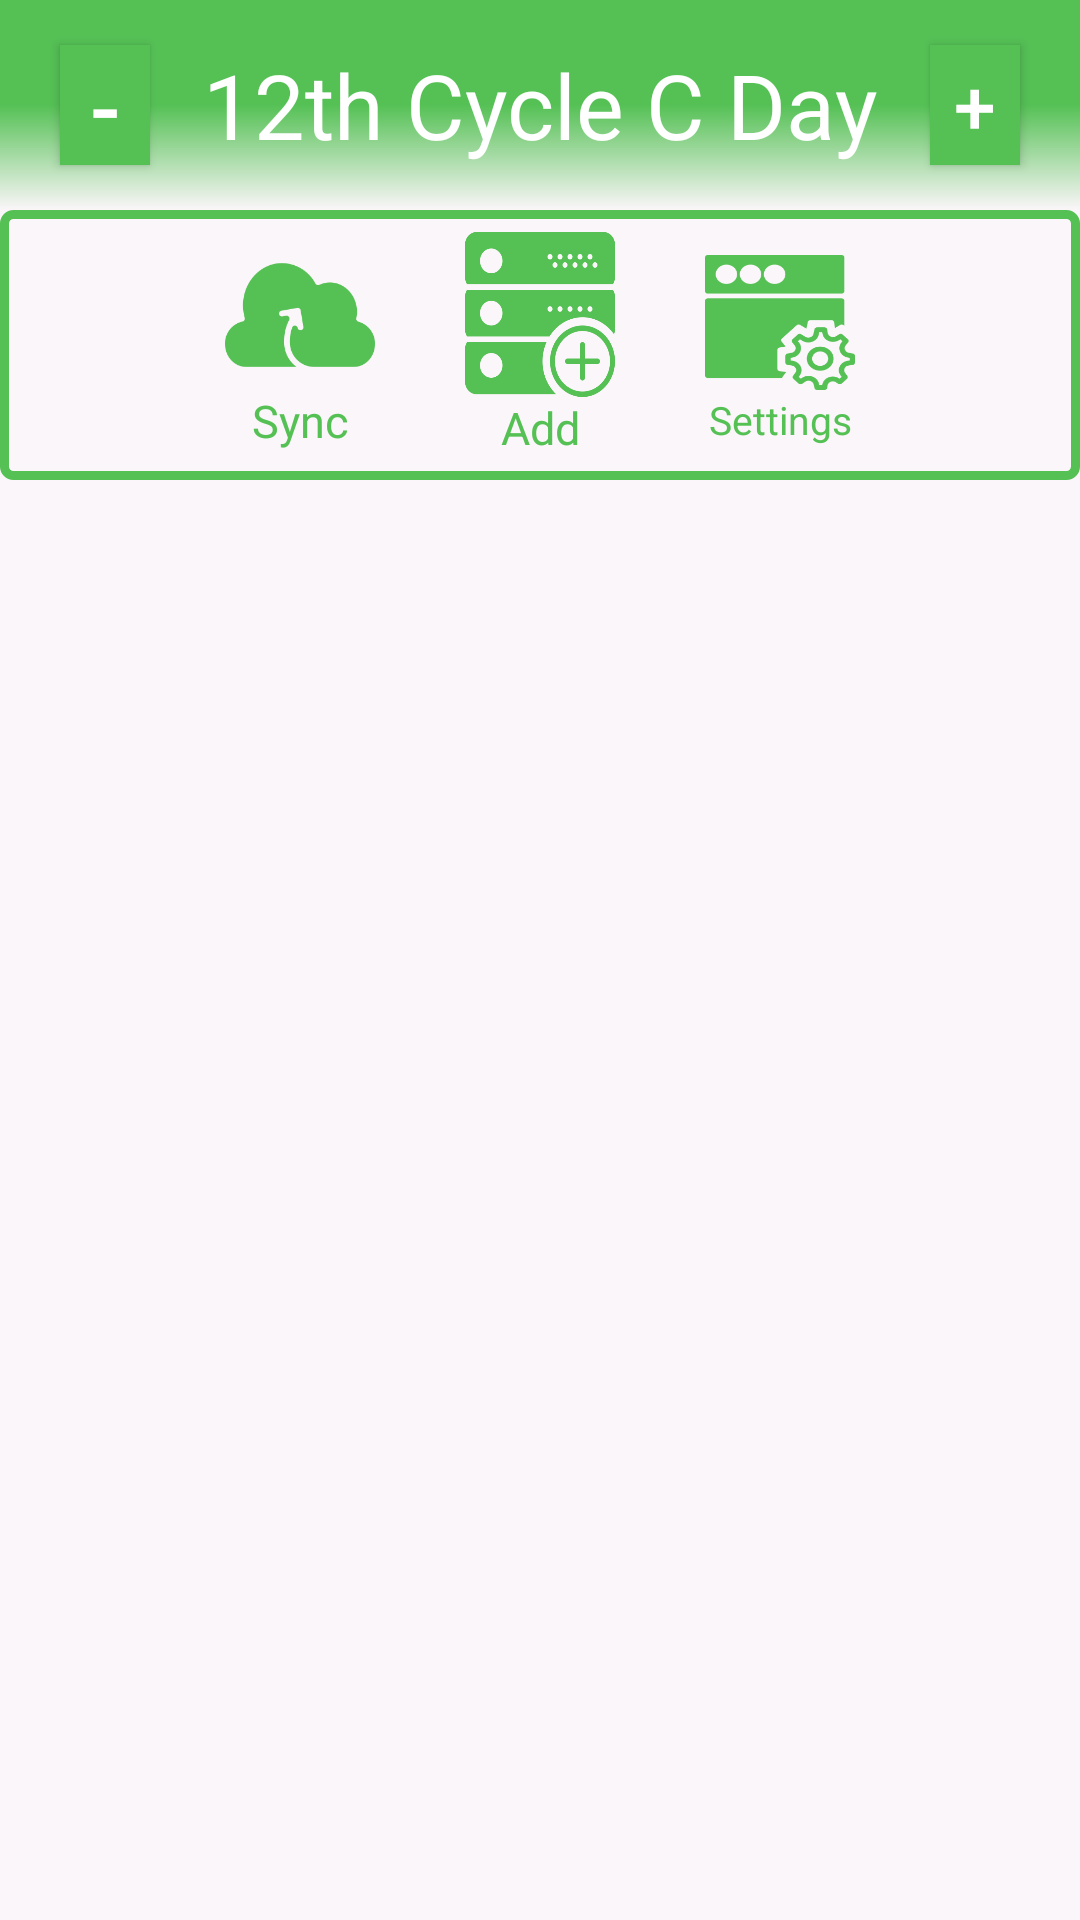

Icon click points for this 1080*1920 phone screenshot, format (x=x, y=y):
browser: (x=780, y=322)
cloud: (x=300, y=315)
server: (x=540, y=314)
